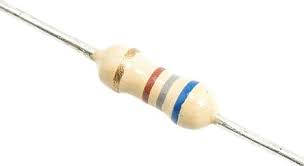resistor: (80, 33, 227, 140)
